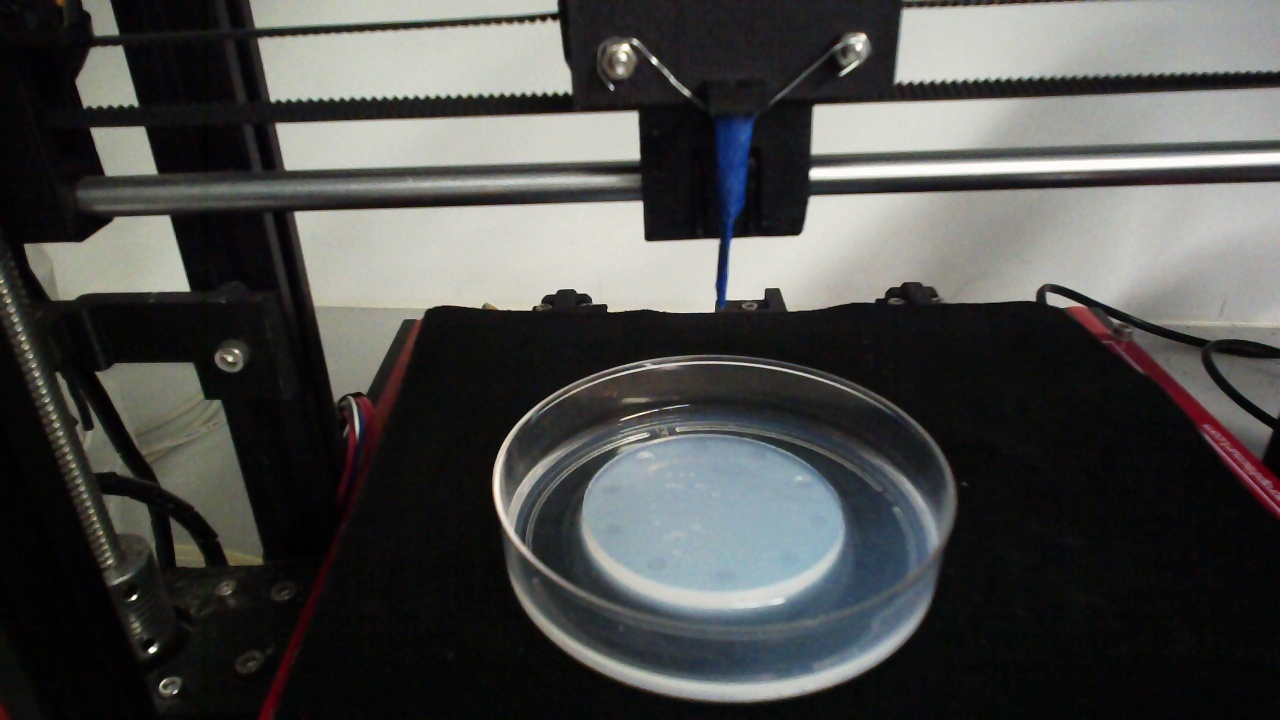groove: (710, 565, 737, 587), (776, 548, 801, 568), (598, 521, 625, 538), (807, 511, 830, 530), (644, 555, 667, 573), (688, 438, 711, 455), (792, 473, 813, 491), (600, 481, 622, 497), (749, 447, 769, 463), (635, 451, 657, 465)
needle: (714, 119, 752, 310)
